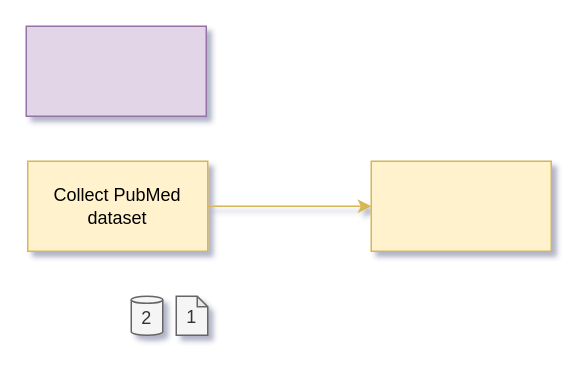
Image size: 587x371. Some labels were removed from this diagram. Each missing label, with the centre of its shape:
Build EFO ontology: the point at 115,70
Preprocess dataset: the point at 460,205
